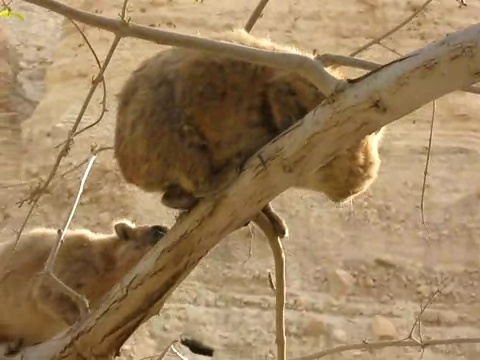Rock Hyrex: (116, 33, 379, 238), (1, 221, 172, 354)
